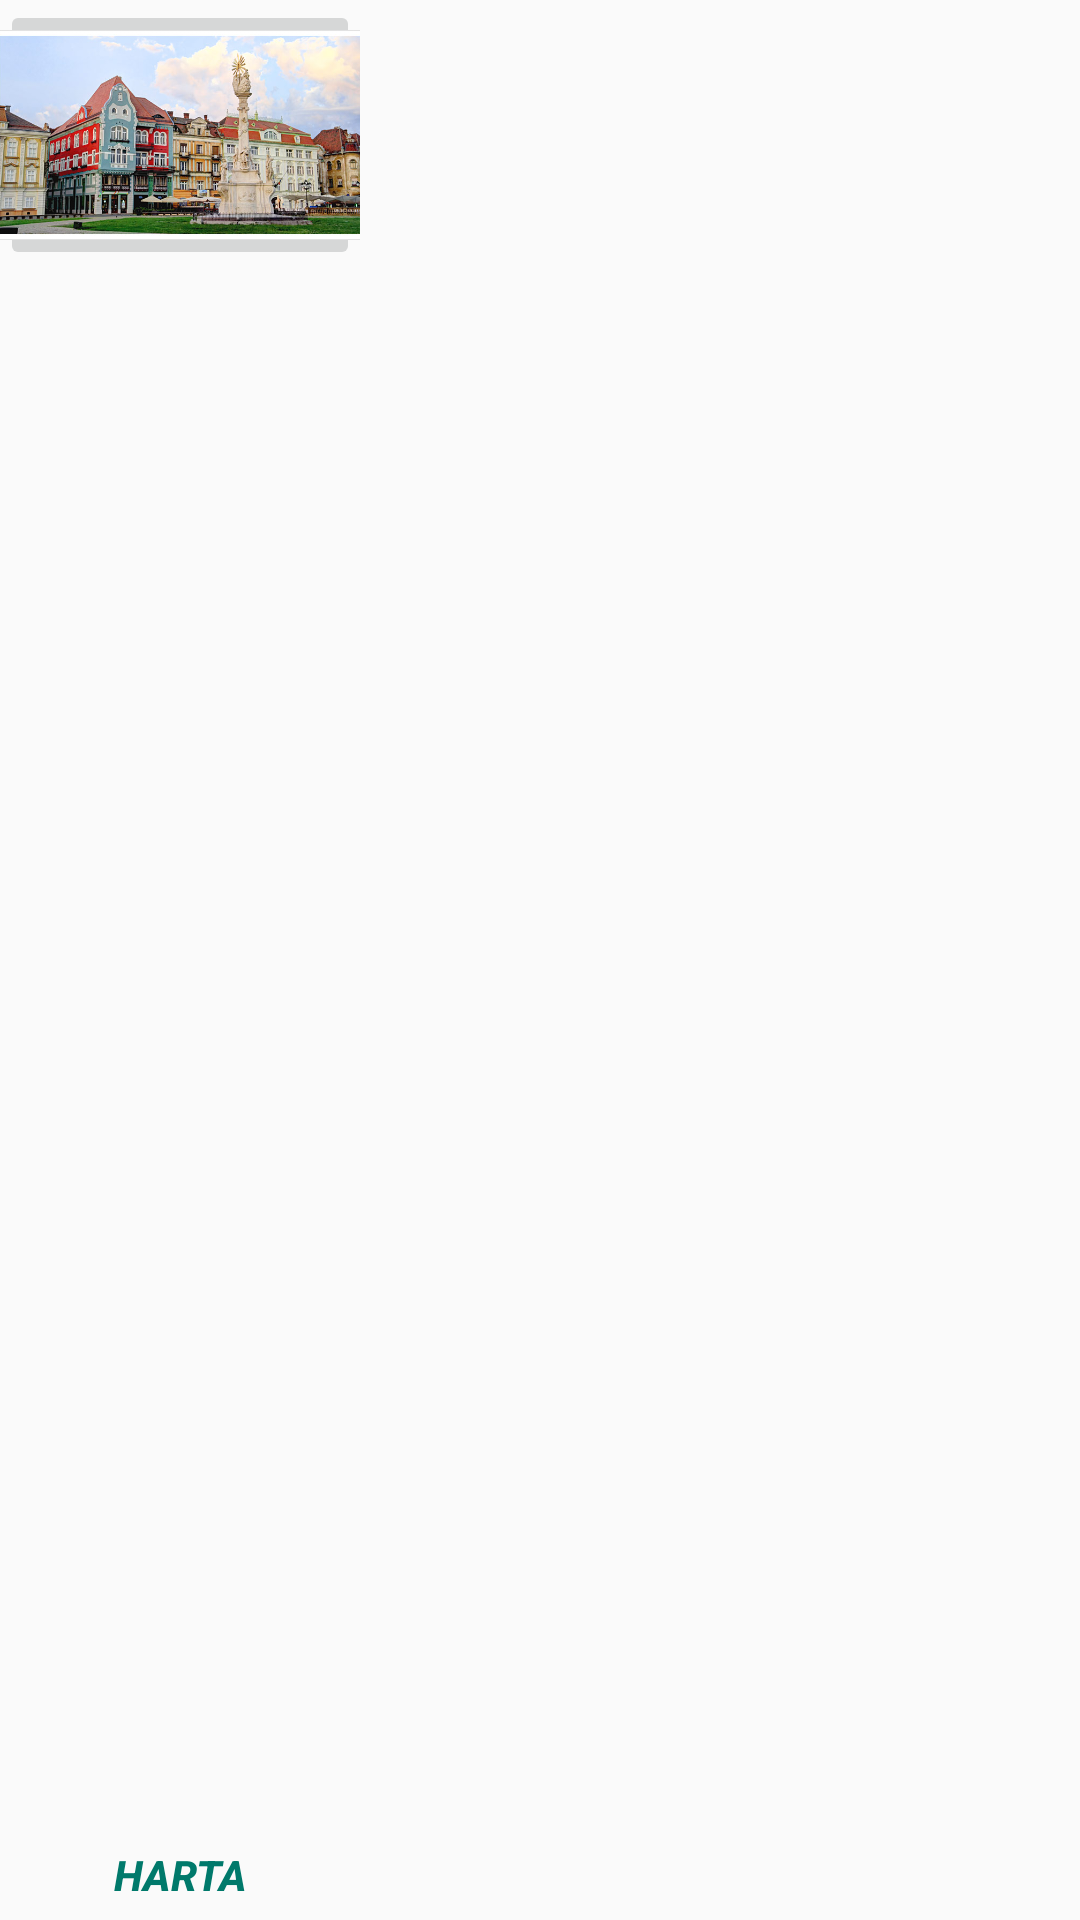

Locate icon controls on the screen. Image size 1080 x 1920, boxes as (x1, y1, x2, y2).
timisoara: (0, 18, 360, 252)
